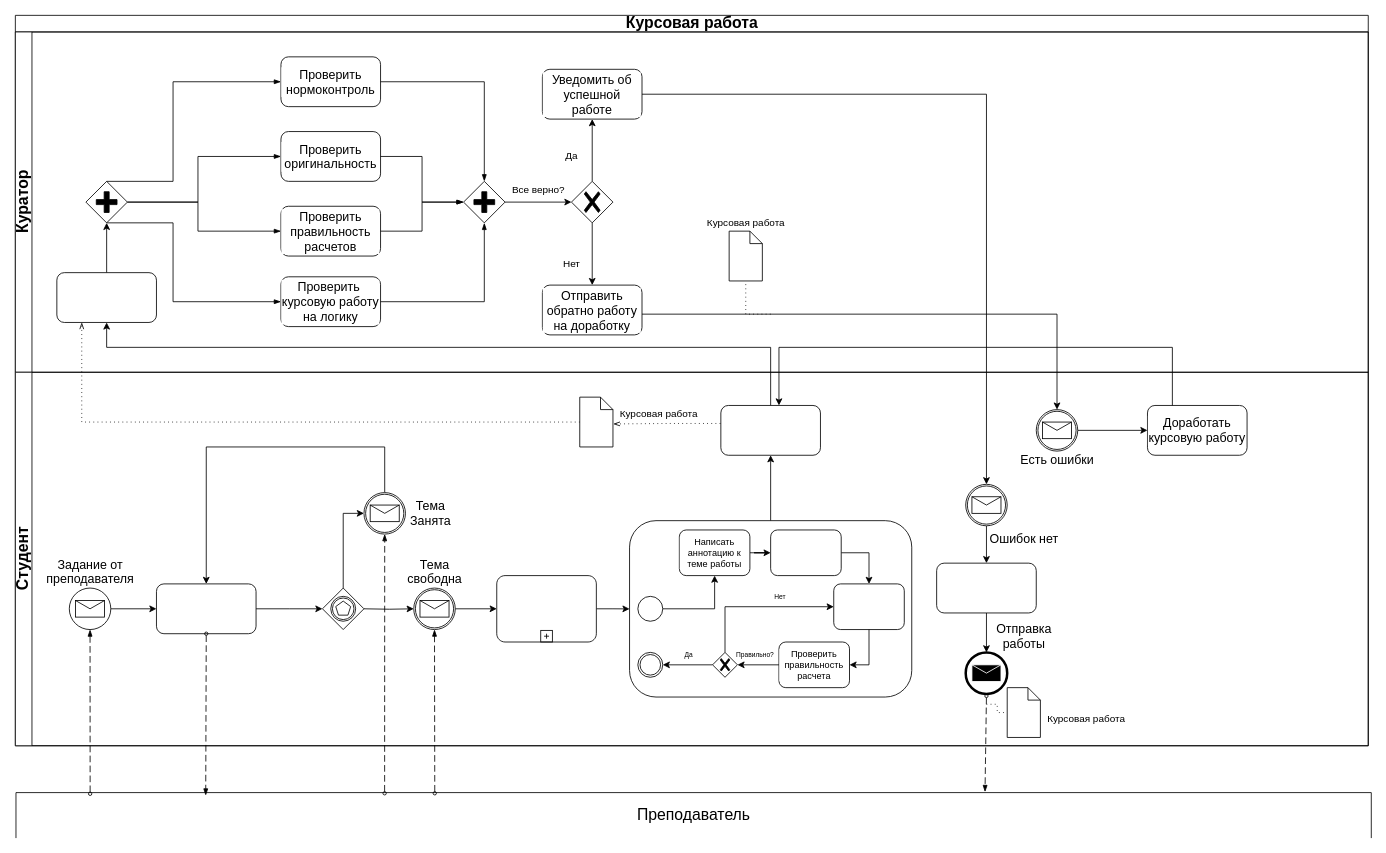
Some shapes in this 1386 by 853 pixel diagram are drawn without their labels. Here are the shapes that lost their labels. From the top down, the centre of each, then its label:
At [106,297]: "Проверить курсовую работу".
At [770,430]: "Отправить на проверку куратору".
At [805,552]: "Написать теорию".
At [868,606]: "Произвести расчет".
At [986,587]: "Отправить работу".
At [206,608]: "Выбрать тему работы".
At [546,608]: "Написать курсовую".
